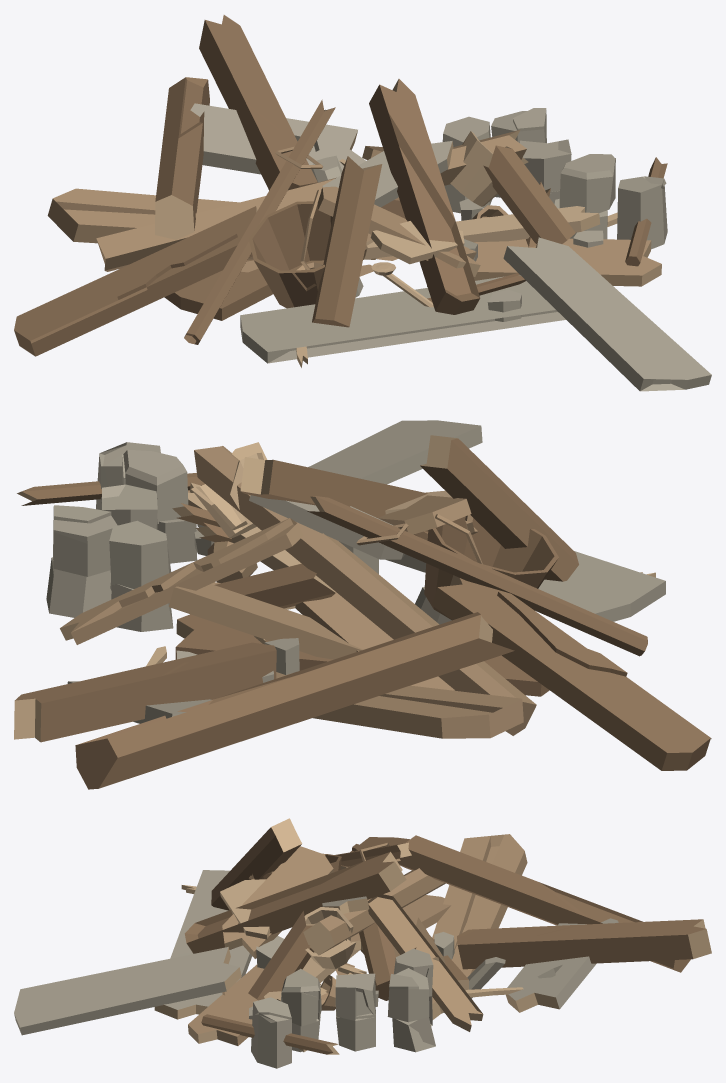
File: yıkıntı.fbx
3 renders of one model, top to bottom at view 1: azimuth 30°, elevation 25°; view 2: azimuth 150°, elevation 25°; view 3: azimuth 270°, elevation 25°, orthographic. The views are drawn at different scales.
Visible parts, largest first — view 1: KırıkUstTabla02; view 2: KırıkUstTabla02; view 3: KırıkUstTabla02.
Part boxes in pixels (x1,y1,x2,y2): KırıkUstTabla02: (14,15,711,391); KırıkUstTabla02: (14,420,711,789); KırıkUstTabla02: (14,818,711,1068).
Bounding box in the file's own units: 3.11 × 0.9157 × 3.64.
